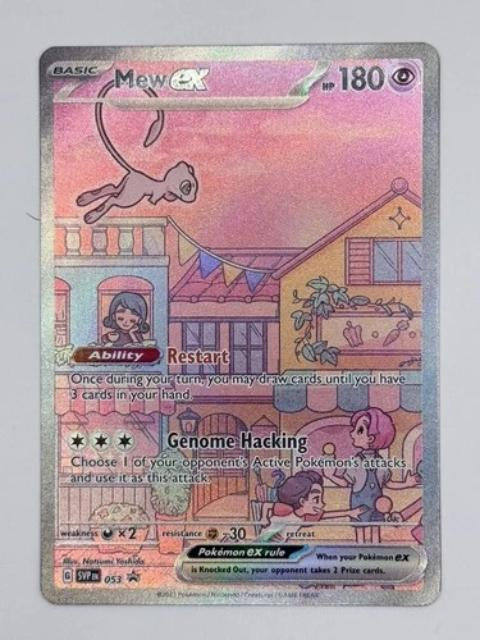Card: (28, 38, 443, 607)
Name: (109, 64, 215, 95)
